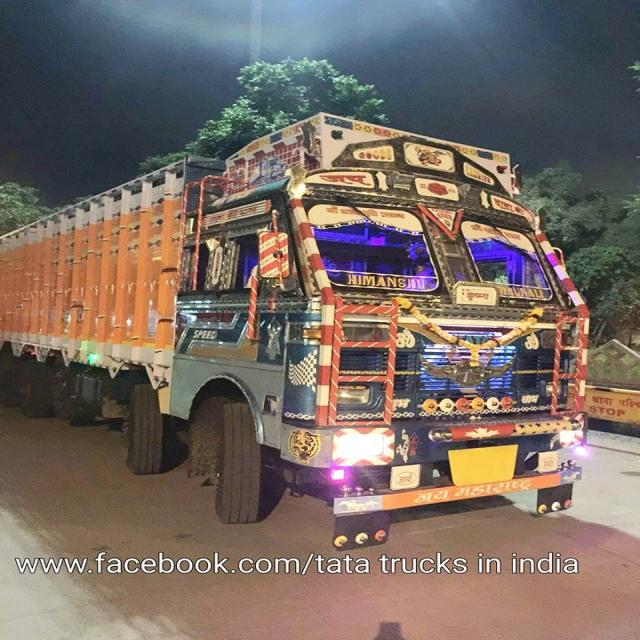truck: (0, 110, 593, 554)
